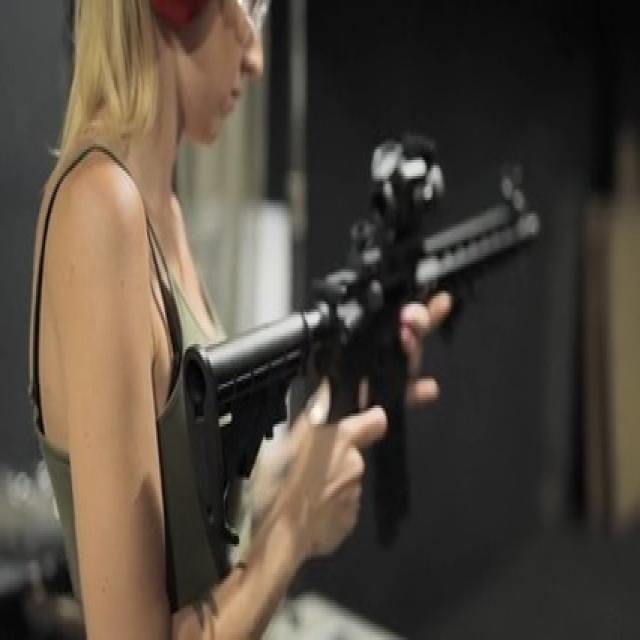Gun_Holder: (157, 113, 589, 602)
Person: (34, 0, 380, 640)
